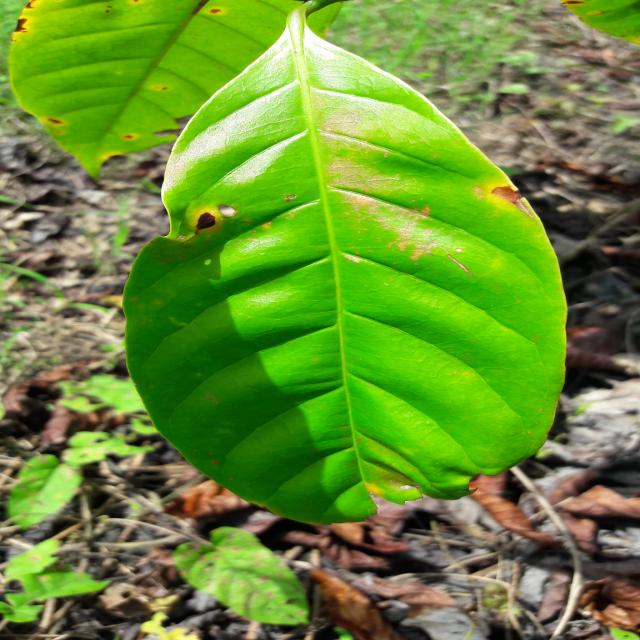Plaga-AranaRoja: (122, 5, 568, 530)
